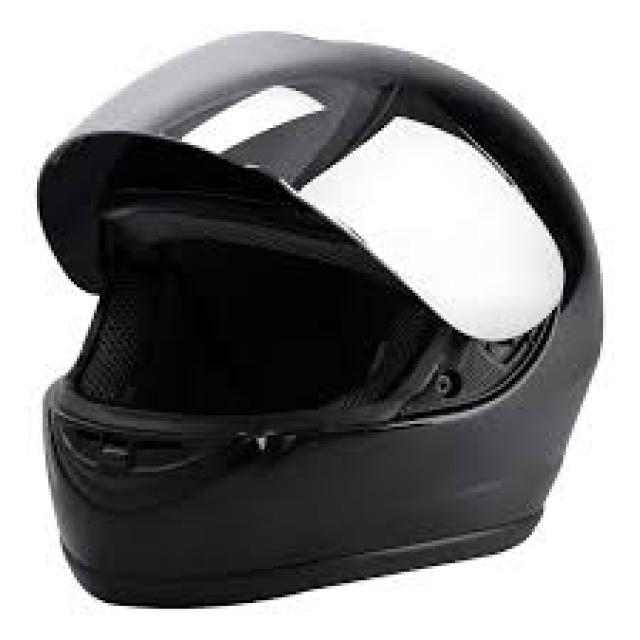Helmet: (38, 35, 601, 606)
